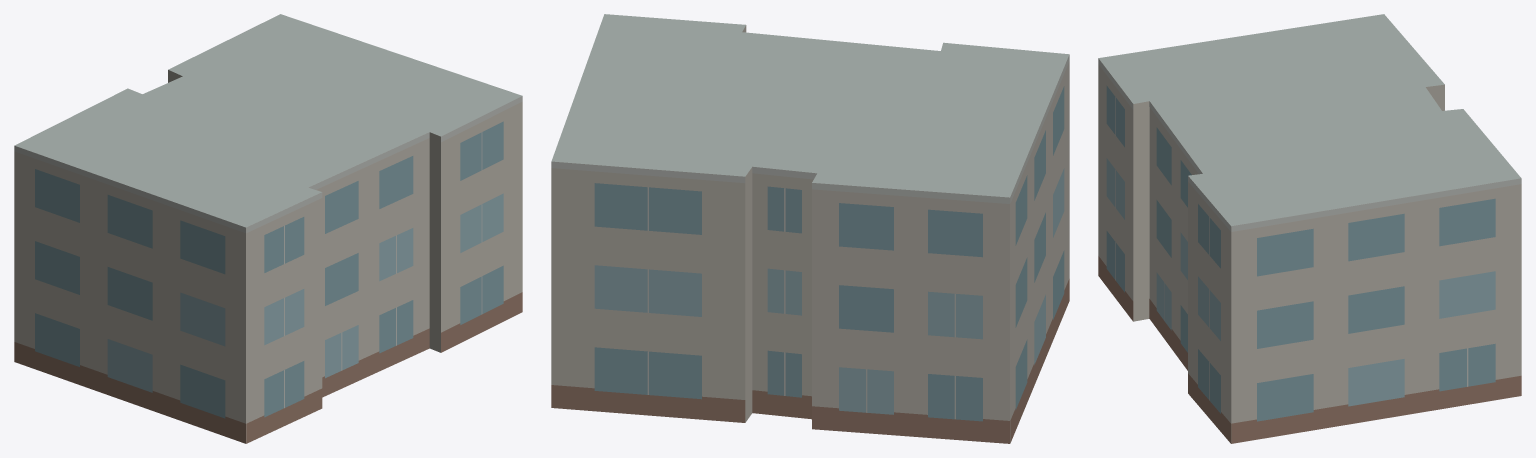
Rendered from survey-upis-32812410.glb.
3 renders of one model, left to right at view 1: azimuth 30°, elevation 25°; view 2: azimuth 150°, elevation 25°; view 3: azimuth 270°, elevation 25°, orthographic. The views are drawn at different scales.
Visible parts, largest first — view 1: survey-upis-32812410.tmp; view 2: survey-upis-32812410.tmp; view 3: survey-upis-32812410.tmp.
Part boxes in pixels (x1,y1,x2,y2): survey-upis-32812410.tmp: (14, 14, 522, 443); survey-upis-32812410.tmp: (551, 14, 1069, 443); survey-upis-32812410.tmp: (1098, 14, 1521, 443).
Bounding box in the file's own units: 19.15 × 9.15 × 16.13.
